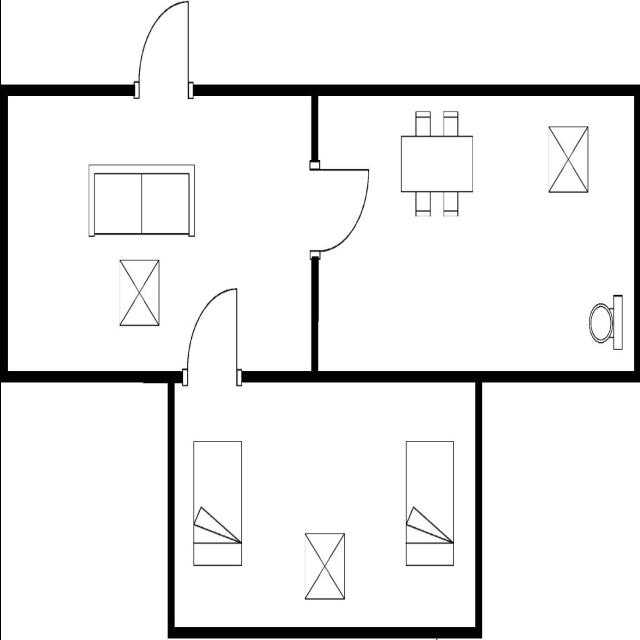bed: (400, 432, 458, 574), (190, 432, 246, 573)
coffee_table: (300, 529, 348, 608), (544, 121, 592, 199), (116, 255, 162, 332)
dining_table: (398, 105, 476, 223)
large_sink: (586, 290, 624, 354)
large_sofa: (82, 156, 198, 242)
